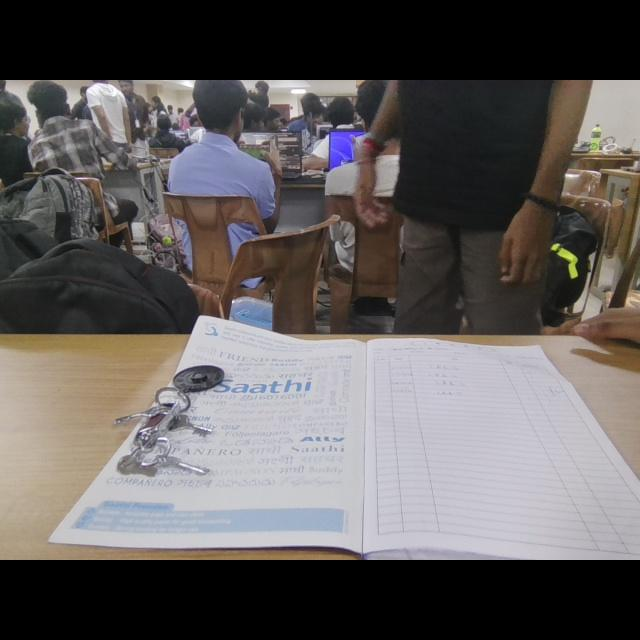keys: (106, 358, 242, 489)
